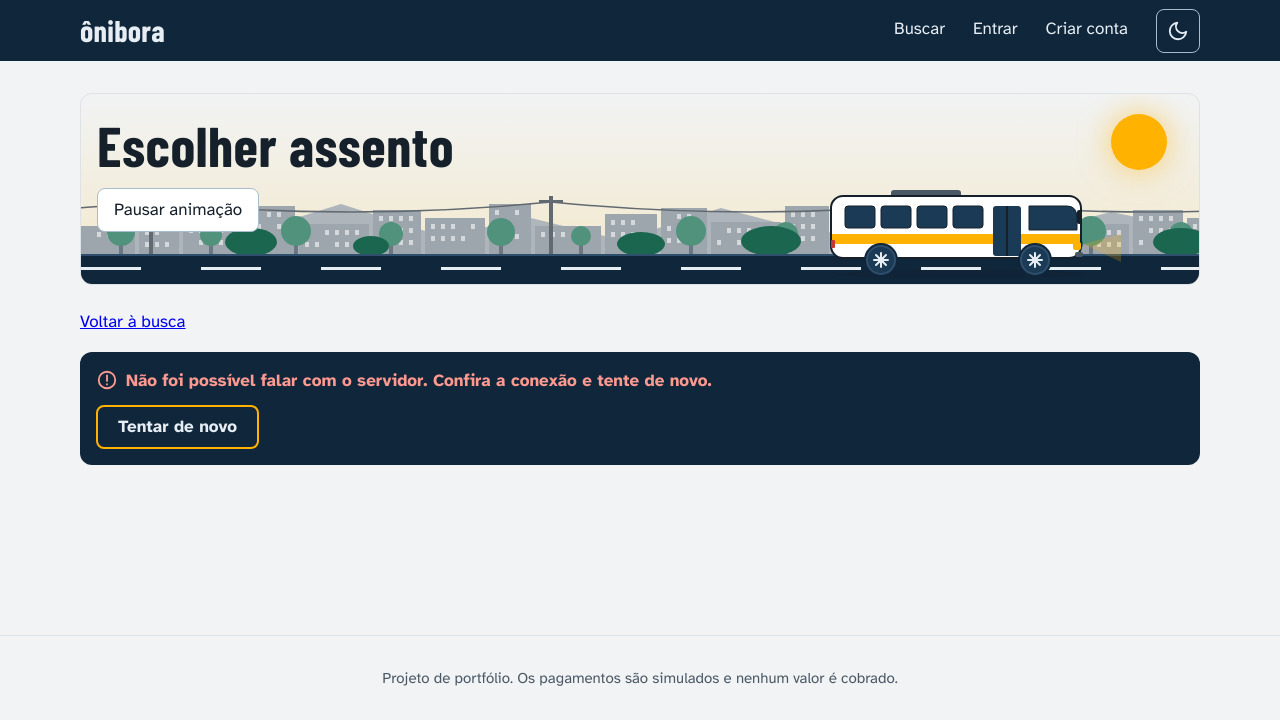
Test case: TripPage › com falha de rede, "Tentar de novo" pede os assentos outra vez
Click the button "Tentar de novo": (178, 427) [96,405,259,449]
(page scrolled)
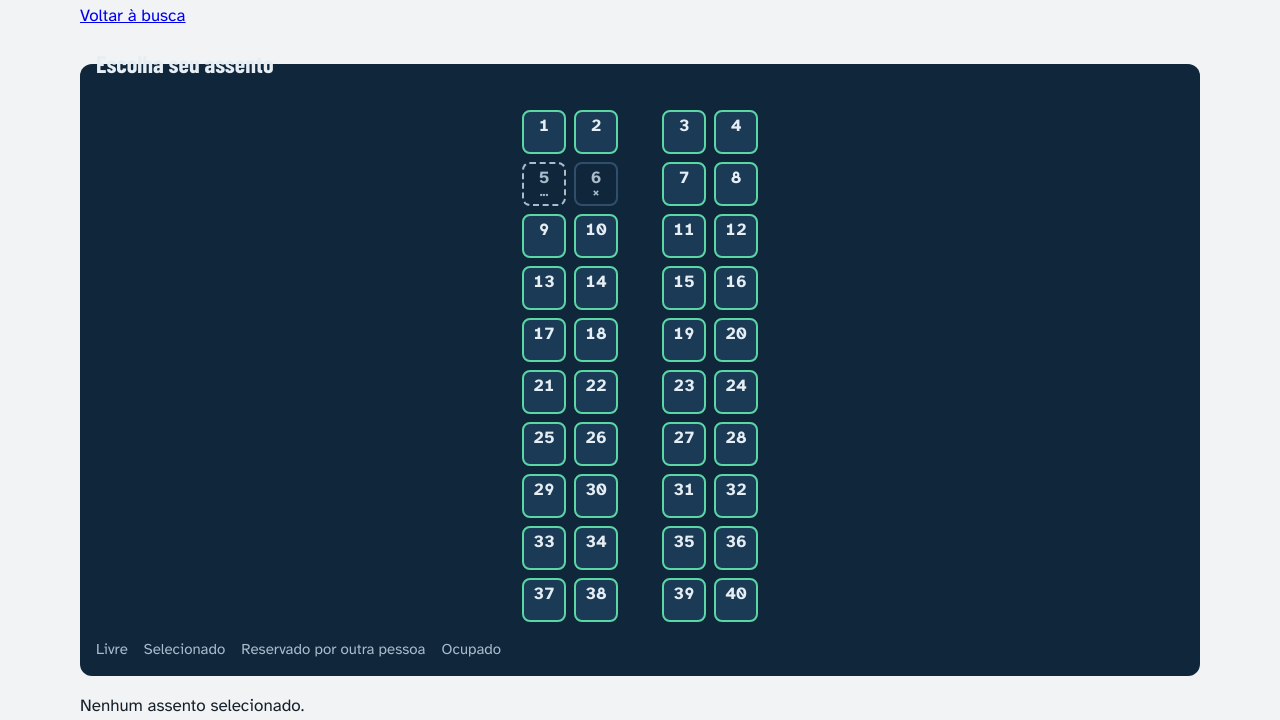
Result: the element "Escolha seu assento" is shown
